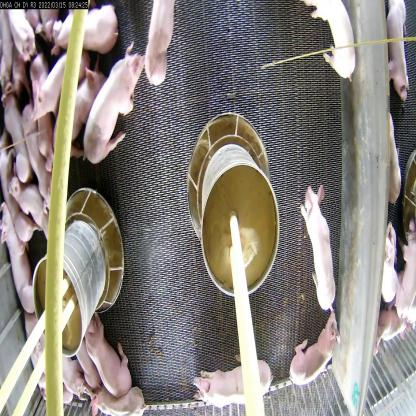Pig: (84, 43, 152, 159), (183, 355, 291, 415), (296, 160, 336, 320), (0, 182, 42, 330), (295, 0, 361, 92), (79, 287, 132, 393), (290, 311, 341, 408), (26, 56, 98, 121), (11, 101, 55, 203), (18, 298, 53, 415), (22, 48, 56, 168), (139, 0, 184, 90), (380, 0, 416, 110), (48, 15, 122, 64), (11, 172, 57, 248), (89, 385, 150, 415), (12, 0, 34, 55)
